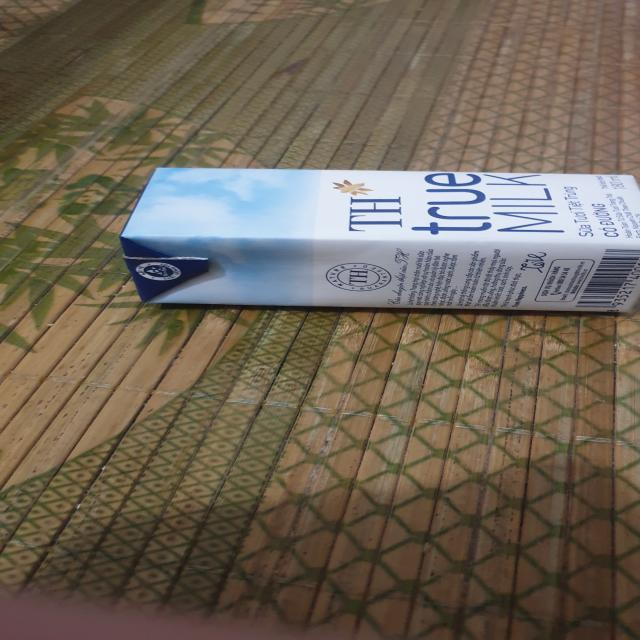TH: (117, 169, 639, 315)
